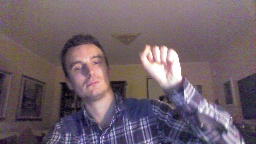Pugno: (136, 42, 184, 86)
